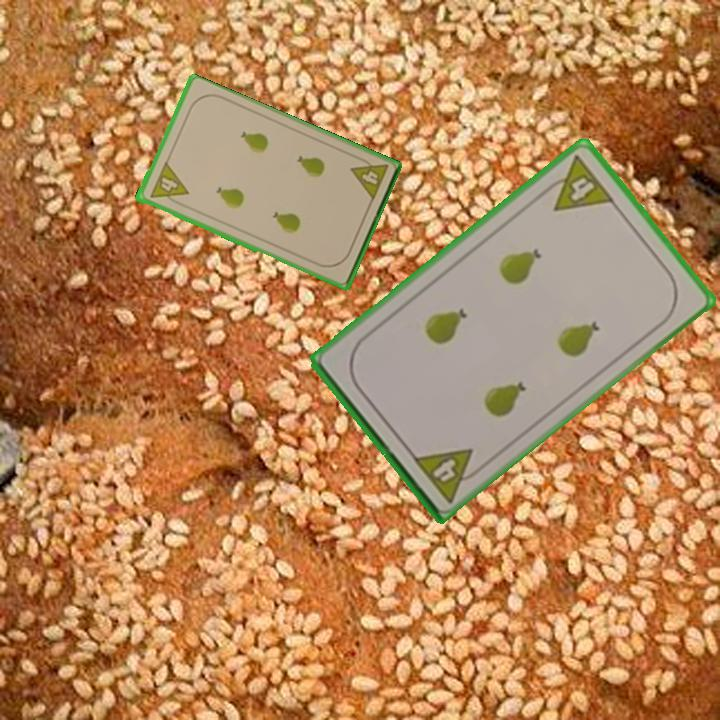4p: (537, 151, 617, 214), (409, 444, 487, 506), (346, 152, 391, 203), (146, 160, 191, 209)
